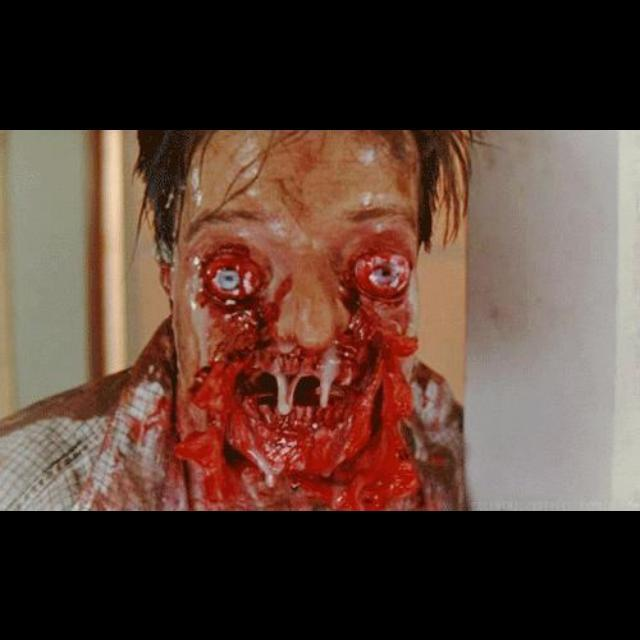blood: (122, 229, 422, 509), (282, 129, 339, 226)
